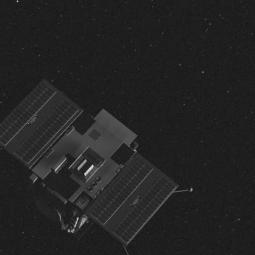proba_2: (24, 79, 174, 232)
